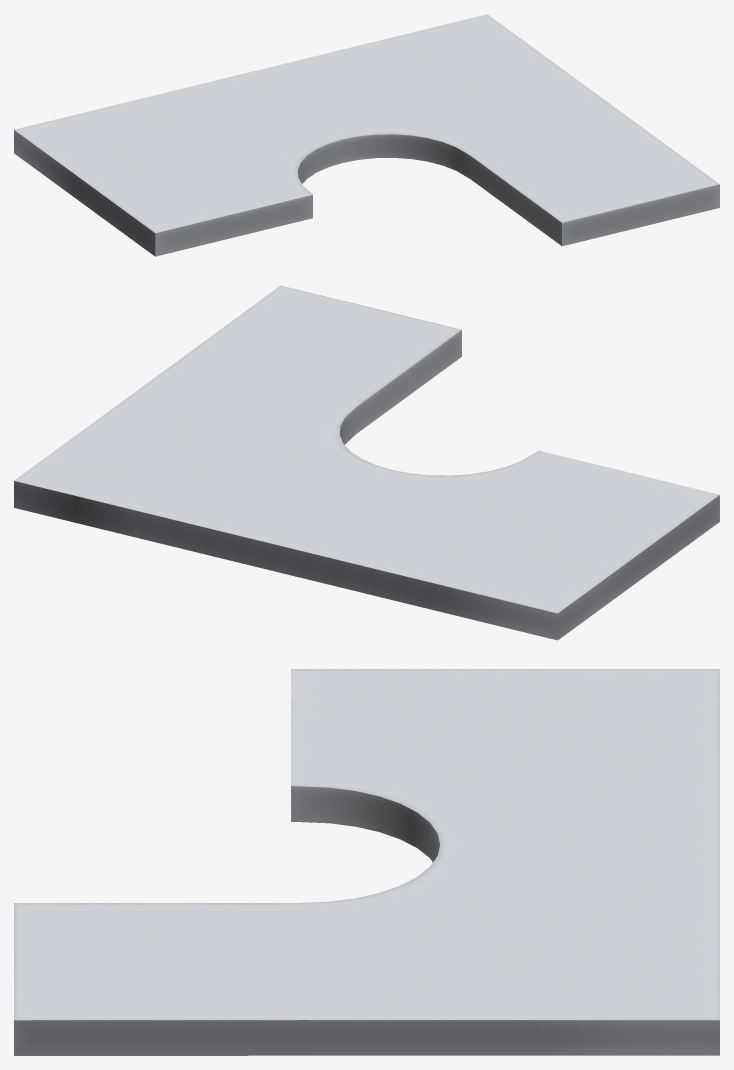
Rendered from platform_8.fbx.
The picture shows the model from 3 angles, top to bottom: view 1: azimuth 30°, elevation 25°; view 2: azimuth 150°, elevation 25°; view 3: azimuth 270°, elevation 25°; orthographic projection. The views are drawn at different scales.
Parts seen in each view (by area): view 1: Cylinder.086; view 2: Cylinder.086; view 3: Cylinder.086.
Boxes of the visible parts, x1=… form: Cylinder.086: x1=14, y1=14, x2=719, y2=256; Cylinder.086: x1=14, y1=285, x2=719, y2=640; Cylinder.086: x1=14, y1=669, x2=719, y2=1055.
Size of the model in its own units: 6000 by 285 by 5100.
Materials: 1 (1 with a texture image).
